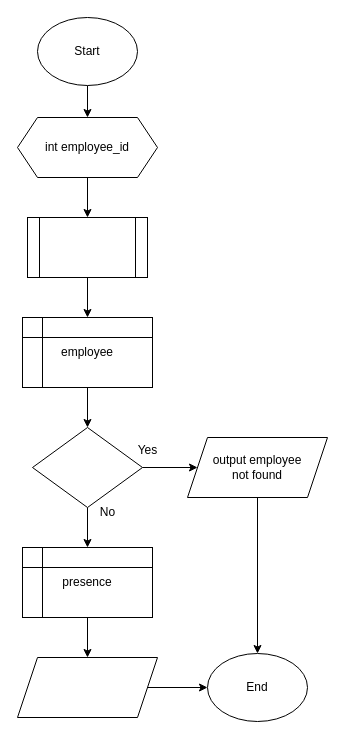
Some shapes in this 345 by 739 pixel diagram are drawn without their labels. The shapes that lost their labels are listed below. From the top down, each one's centre as x and y in pixels, then its label:
At (x=87, y=247): "presence employee".
At (x=87, y=467): "not found?".
At (x=87, y=687): "output payroll pdf".
